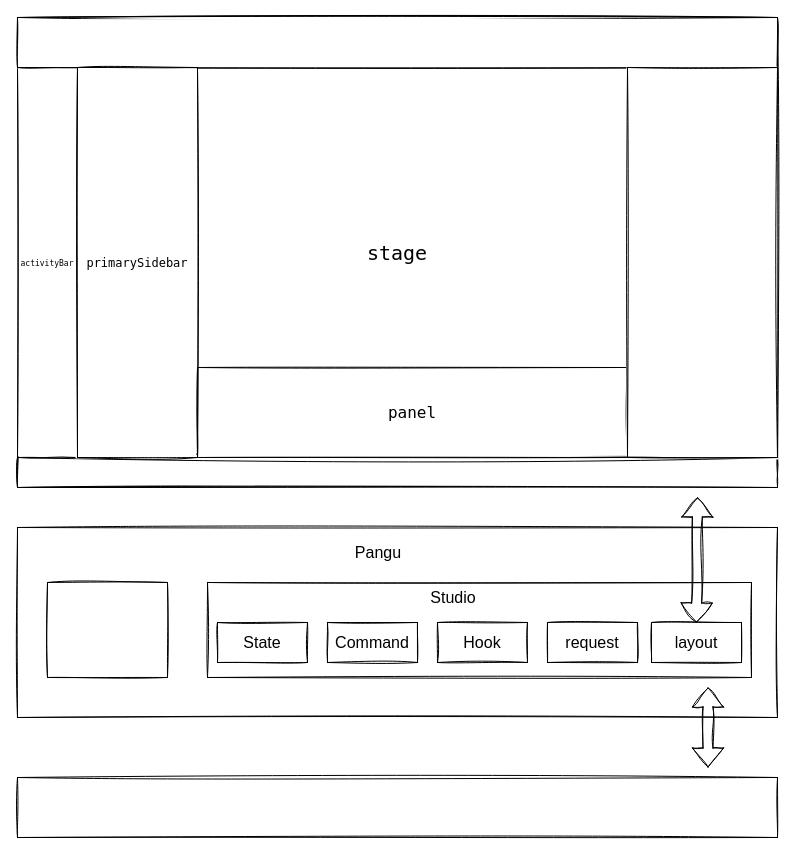
This 795x855 diagram has some shape labels left out. The shapes that lost their labels are listed below. From the top down, each one's centre as x and y in pixels, then its label:
At pixel 397 42: "banner".
At pixel 702 262: "secondarySidebar".
At pixel 397 472: "statusBar".
At pixel 107 630: "定制化A".
At pixel 397 807: "Cloud".
